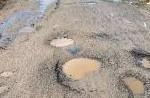pothole: (55, 53, 107, 82), (120, 72, 150, 98), (46, 34, 76, 50), (132, 49, 150, 68)
